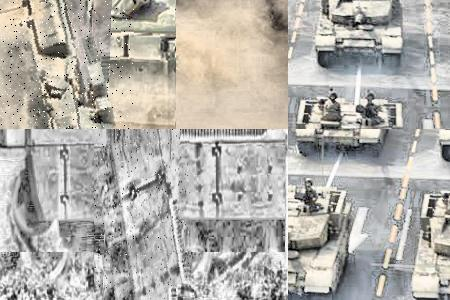tanks: (95, 131, 190, 300), (1, 1, 118, 130), (289, 181, 352, 300), (316, 1, 405, 67), (413, 191, 450, 300), (298, 95, 405, 130), (296, 130, 390, 158)
